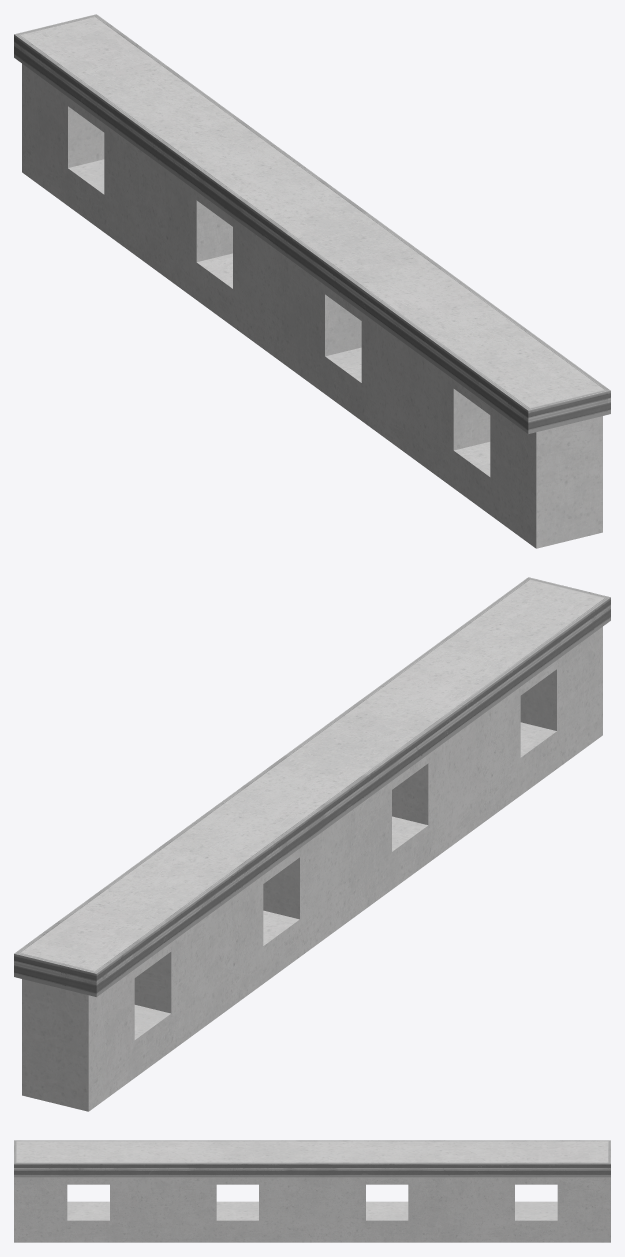
File: MB_Fence_E_4m.fbx
3 renders of one model, top to bottom at view 1: azimuth 30°, elevation 25°; view 2: azimuth 150°, elevation 25°; view 3: azimuth 270°, elevation 25°, orthographic. The views are drawn at different scales.
Parts seen in each view (by area): view 1: MB_Fence_E_4m; view 2: MB_Fence_E_4m; view 3: MB_Fence_E_4m.
Boxes of the visible parts, box(x1,y1,x2,y2) form: MB_Fence_E_4m: box(14, 14, 610, 548); MB_Fence_E_4m: box(14, 577, 610, 1111); MB_Fence_E_4m: box(14, 1140, 610, 1242).
Bounding box in the file's own units: 37.08 × 60 × 400.
